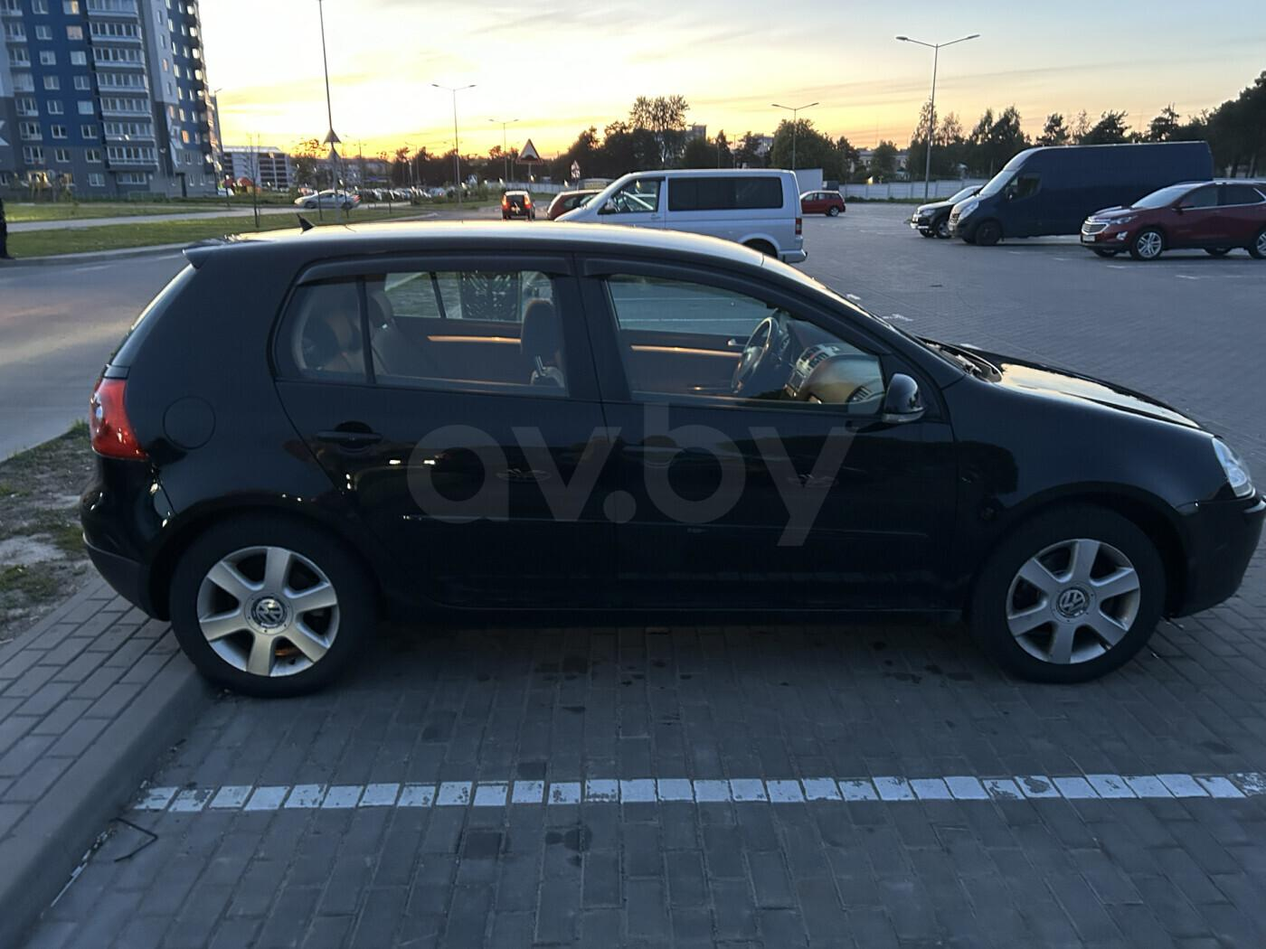Golf_2003-2009: (83, 225, 1265, 711)
